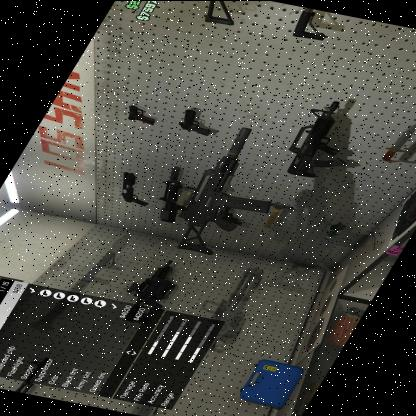rifle: (148, 114, 308, 268)
